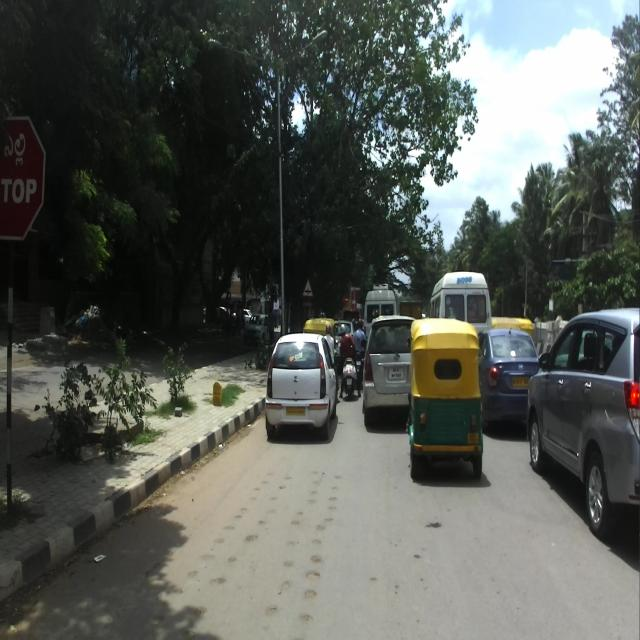autorickshaw: (406, 317, 484, 481)
car: (527, 307, 639, 543), (265, 332, 338, 441)
